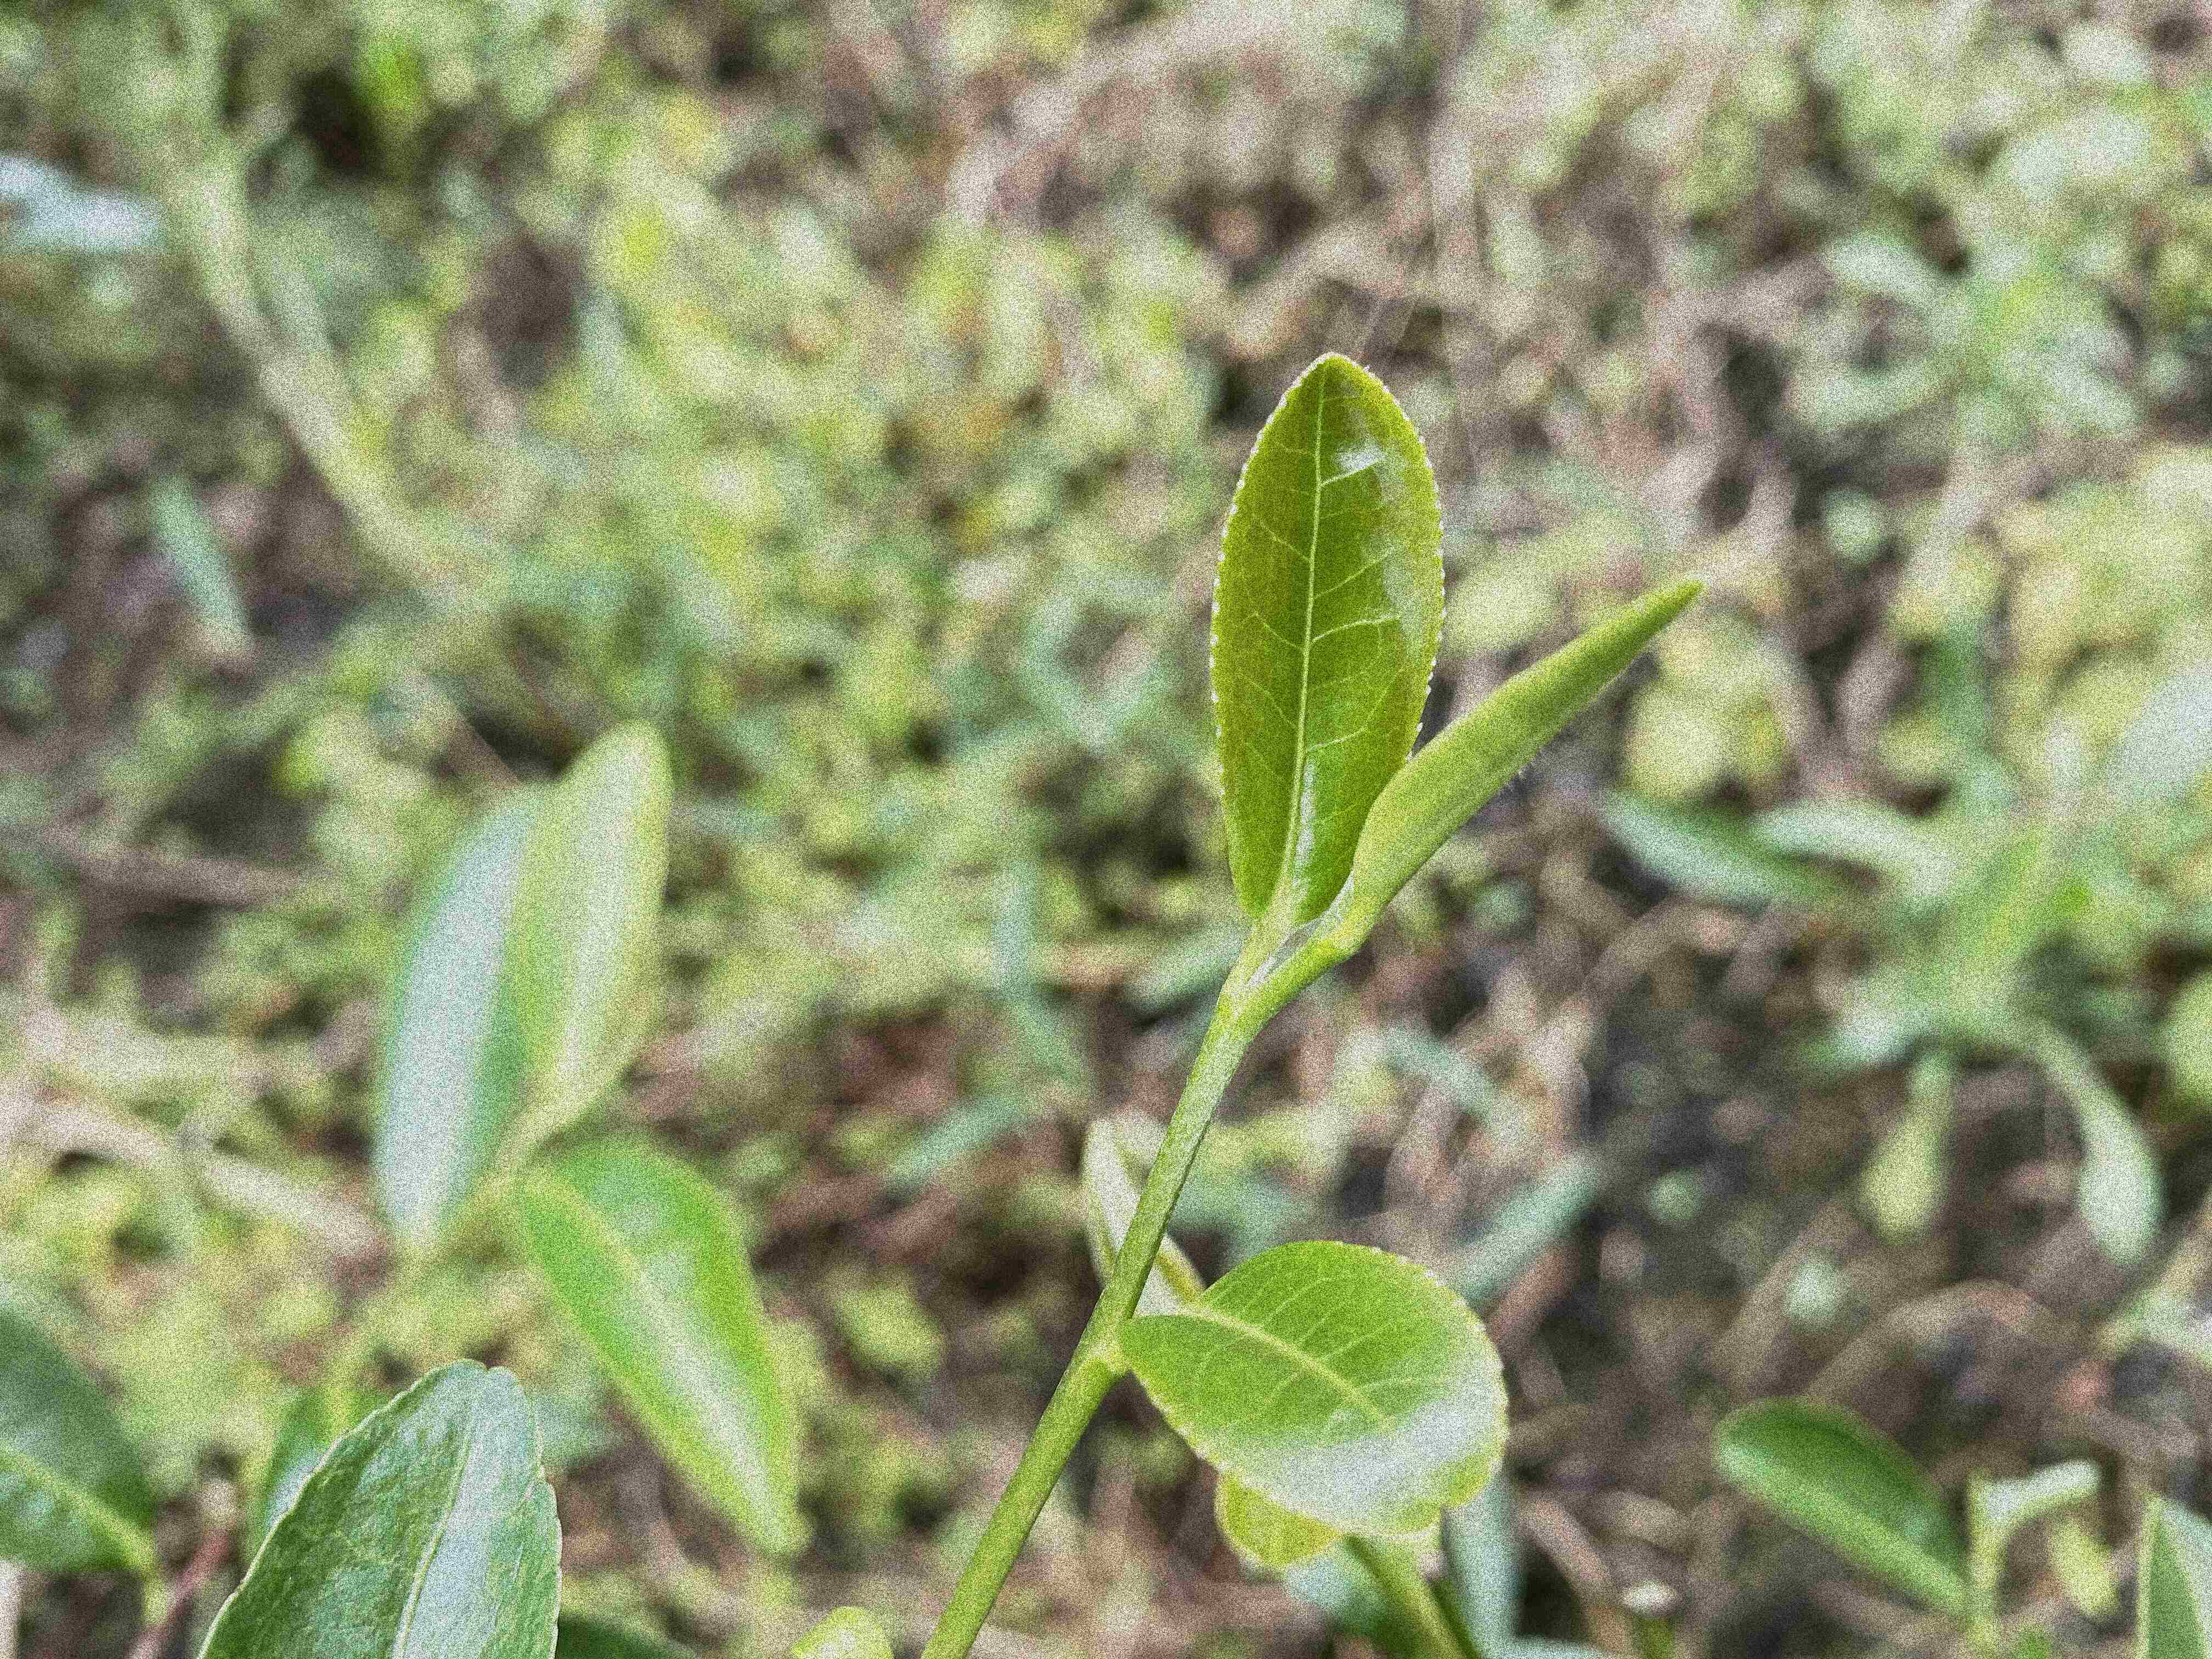healthy: (1211, 350, 1451, 932), (1123, 1236, 1512, 1535), (202, 1351, 570, 1657)
